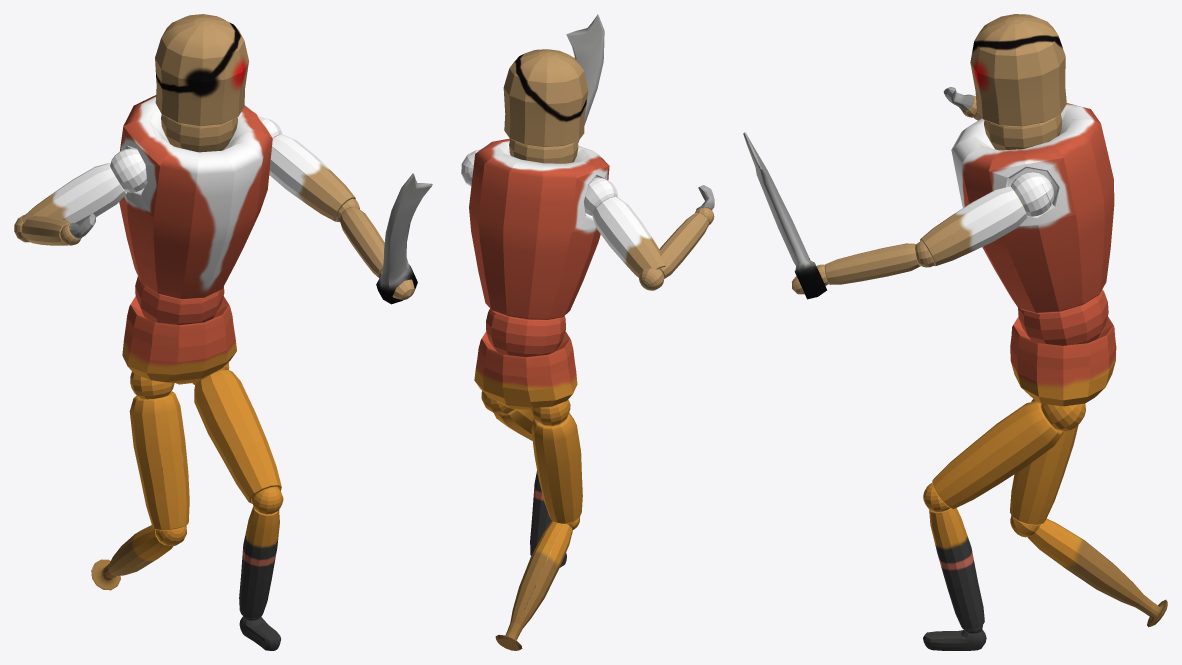
File: Animation.fbx
3 renders of one model, left to right at view 1: azimuth 30°, elevation 25°; view 2: azimuth 150°, elevation 25°; view 3: azimuth 270°, elevation 25°, orthographic. The views are drawn at different scales.
Parts seen in each view (by area): view 1: Sword; view 2: Sword; view 3: Sword.
Boxes of the visible parts, left/top/right/bottom form: Sword: left=14, top=14, right=432, bottom=650; Sword: left=461, top=14, right=714, bottom=650; Sword: left=743, top=14, right=1167, bottom=650.
Size of the model in its own units: 14.17 by 30.05 by 18.66.
